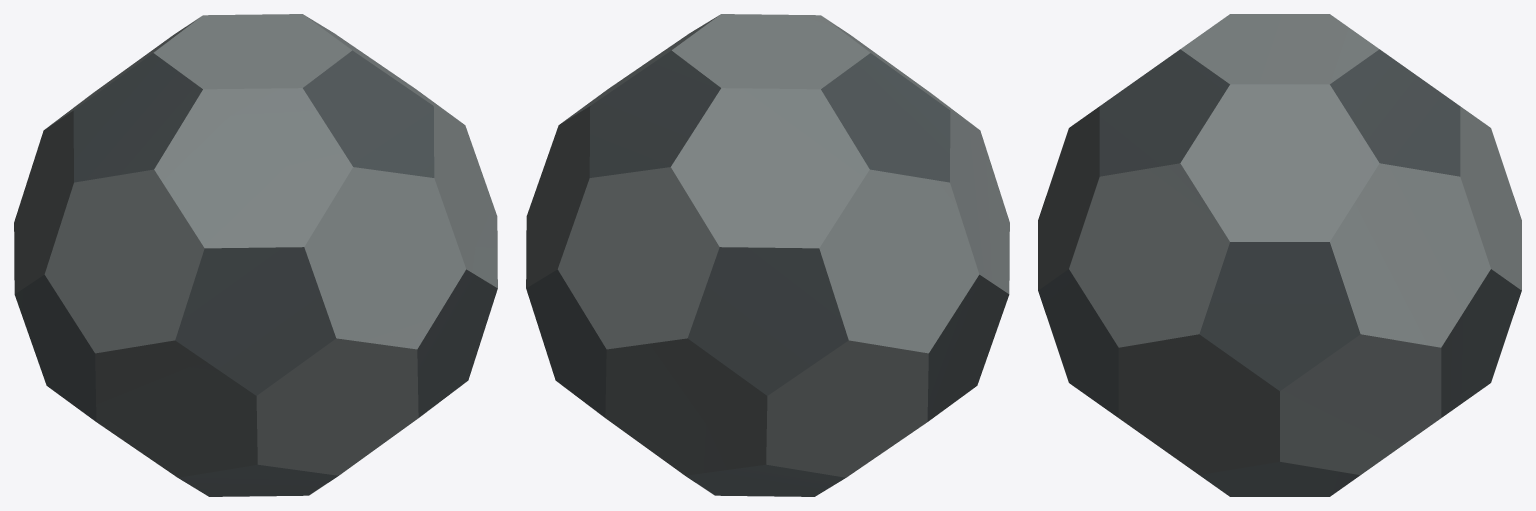
Rendered from SM_Toy_07.fbx.
The picture shows the model from 3 angles, left to right: view 1: azimuth 30°, elevation 25°; view 2: azimuth 150°, elevation 25°; view 3: azimuth 270°, elevation 25°; orthographic projection.
Visible parts, largest first — view 1: SM_Toy_07; view 2: SM_Toy_07; view 3: SM_Toy_07.
Boxes of the visible parts, x1,y1,x2,y2 form: SM_Toy_07: (14, 14, 497, 496); SM_Toy_07: (526, 14, 1009, 496); SM_Toy_07: (1038, 14, 1521, 496).
Size of the model in its own units: 23.81 by 22.15 by 23.57.
Materials: 1 (1 with a texture image).
